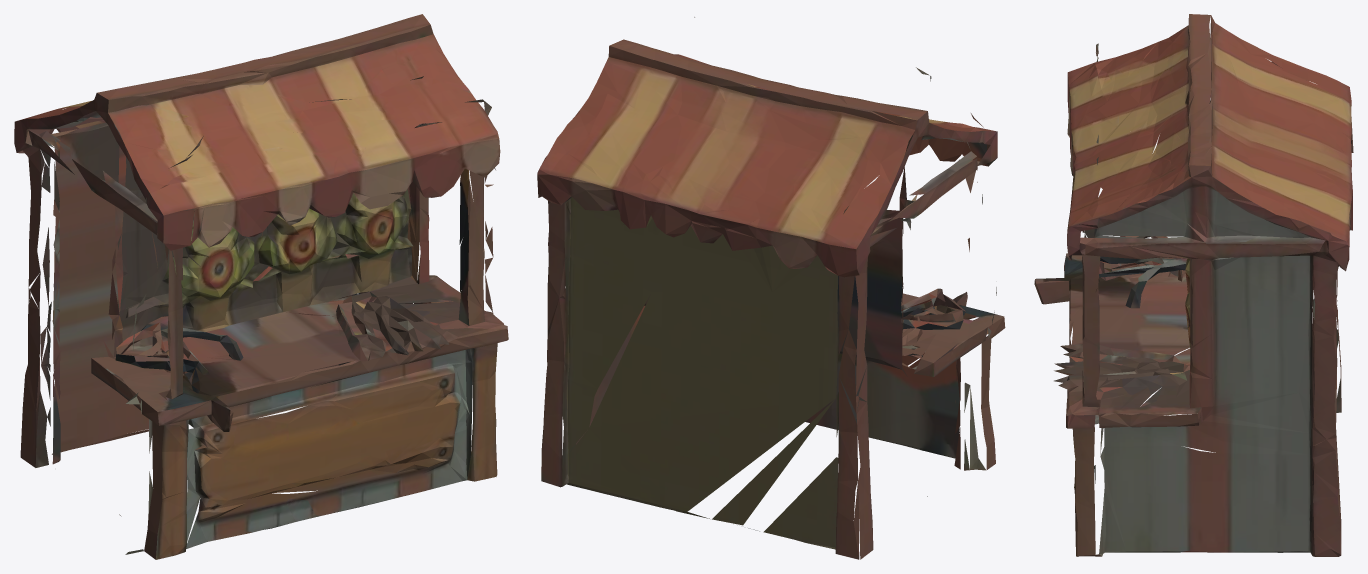
Rendered from game_archery.glb.
3 renders of one model, left to right at view 1: azimuth 30°, elevation 25°; view 2: azimuth 150°, elevation 25°; view 3: azimuth 270°, elevation 25°, orthographic. The views are drawn at different scales.
Parts seen in each view (by area): view 1: geometry_0; view 2: geometry_0; view 3: geometry_0.
Boxes of the visible parts, bbox=[...] form: geometry_0: bbox=[14, 14, 508, 559]; geometry_0: bbox=[537, 17, 1005, 559]; geometry_0: bbox=[1034, 14, 1353, 556].
Bounding box in the file's own units: 2 × 2.13 × 1.56.
1 material, 1 textured.
